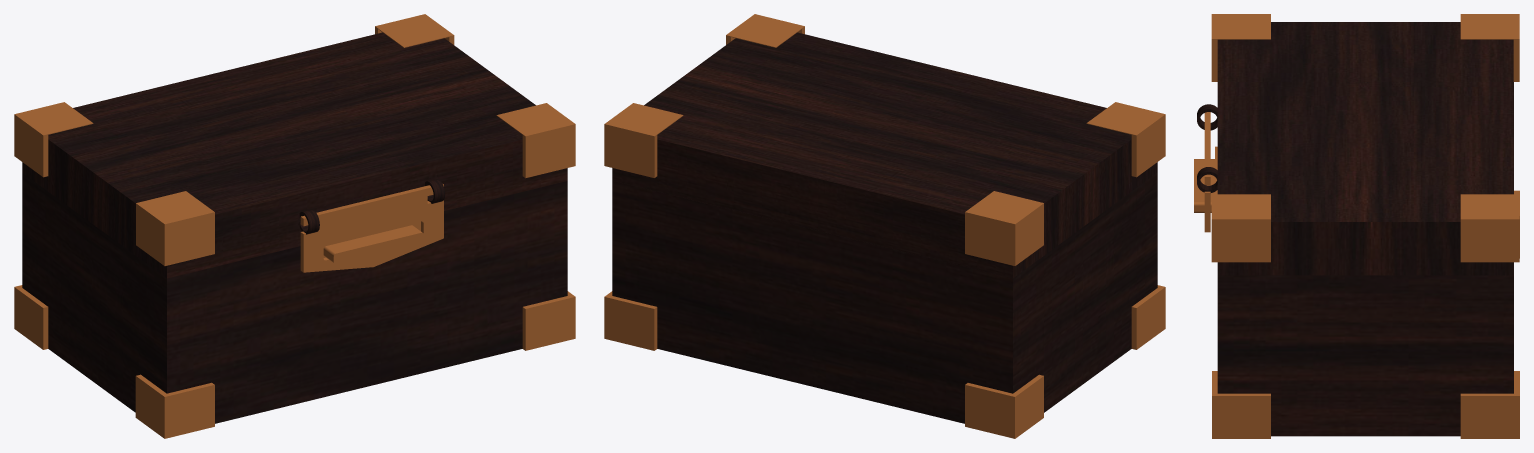
Rendered from closebox.fbx.
The picture shows the model from 3 angles, left to right: view 1: azimuth 30°, elevation 25°; view 2: azimuth 150°, elevation 25°; view 3: azimuth 270°, elevation 25°; orthographic projection. The views are drawn at different scales.
Visible parts, largest first — view 1: 기본값 (×2), 레이어 01 (×7), 레이어 02 (×2); view 2: 기본값 (×2), 레이어 01 (×7); view 3: 기본값 (×4), 레이어 01 (×6), 레이어 02 (×2).
Boxes of the visible parts, left/top/right/bottom form: 기본값 (×2): left=22, top=32, right=567, bottom=423; 레이어 01 (×7): left=14, top=14, right=575, bottom=438; 레이어 02 (×2): left=300, top=184, right=443, bottom=272; 기본값 (×2): left=612, top=32, right=1157, bottom=423; 레이어 01 (×7): left=604, top=14, right=1165, bottom=438; 기본값 (×4): left=1197, top=22, right=1513, bottom=436; 레이어 01 (×6): left=1211, top=14, right=1519, bottom=438; 레이어 02 (×2): left=1194, top=112, right=1217, bottom=232.
Size of the model in its own units: 164 by 81.88 by 110.
Materials: 3 (1 with a texture image).
